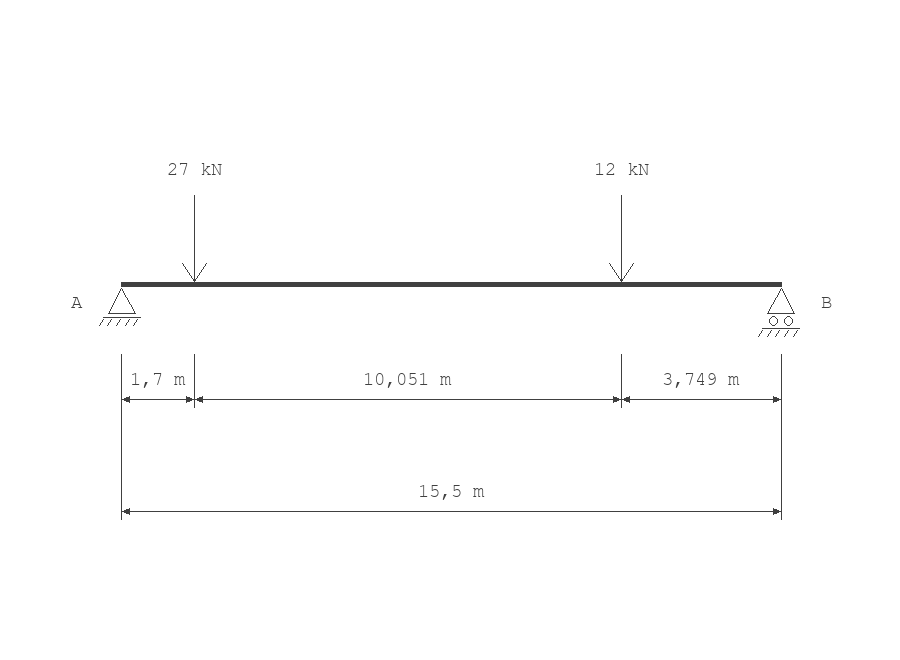pin_support: (99, 288, 141, 326)
point_load: (182, 195, 207, 282), (609, 195, 634, 282)
roller_support: (758, 288, 800, 337)
